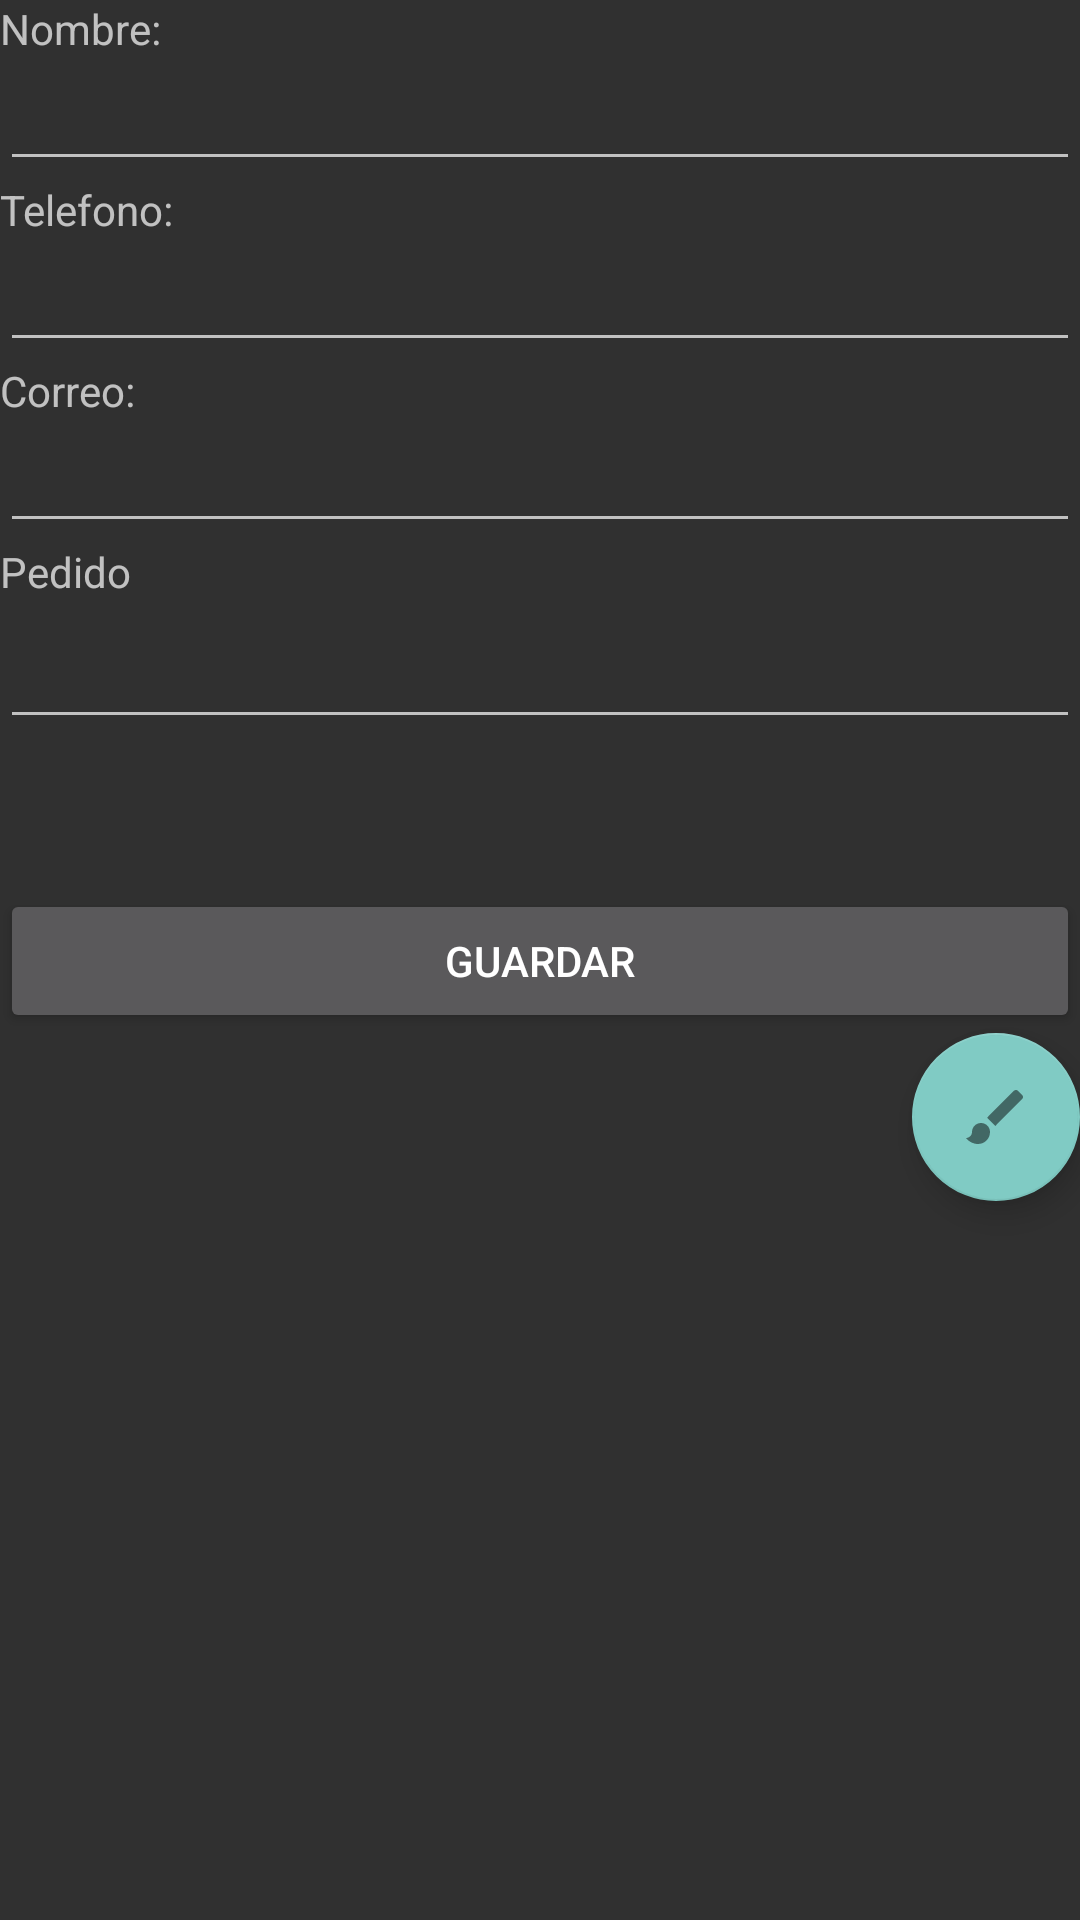

Icon bounding boxes for this 1080px×1920px phone screenshot, format rect(x1, y1, x2, y2):
editar: rect(912, 1033, 1080, 1201)
